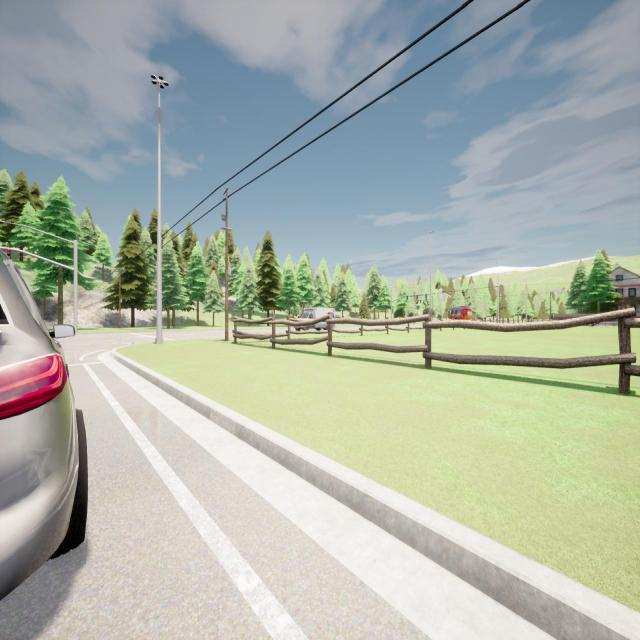Vehicle: (0, 251, 87, 598), (295, 307, 336, 331), (448, 306, 472, 320)
